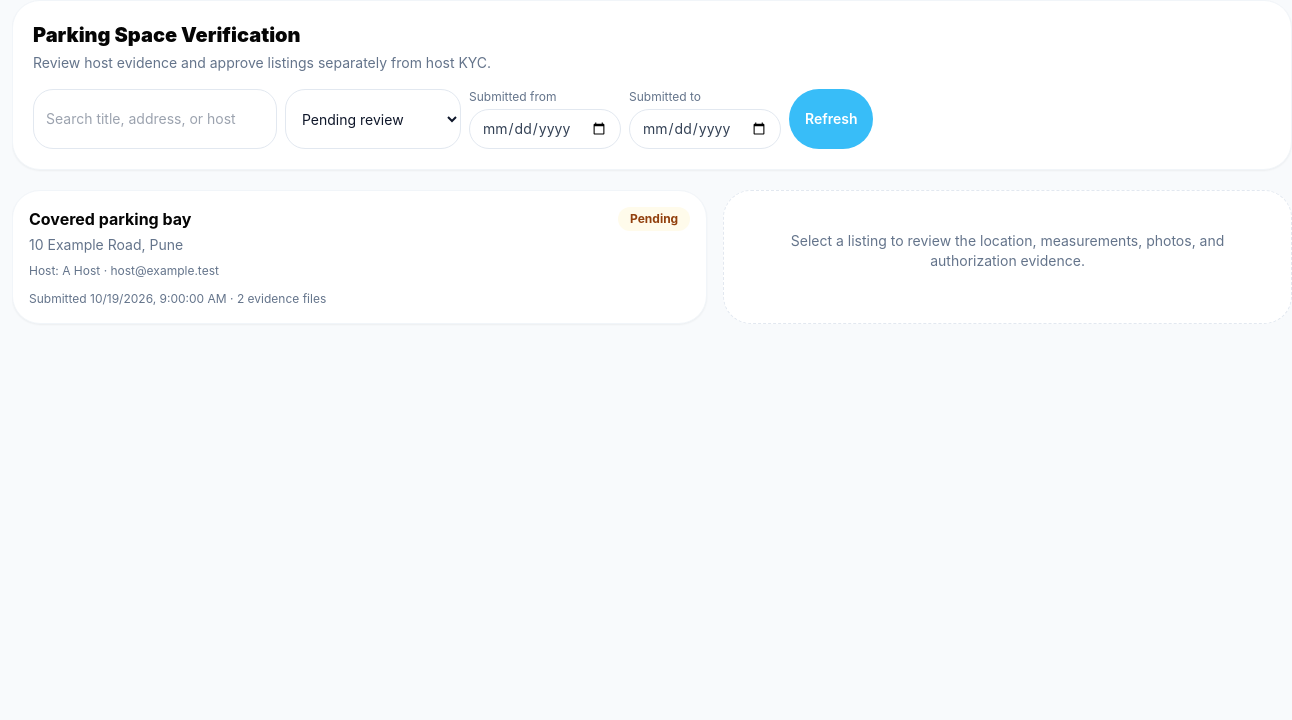
Test: admin can open a listing and inspect authorization evidence
Click the button "Covered parking bay" at point(110, 219), box [12, 190, 707, 324]
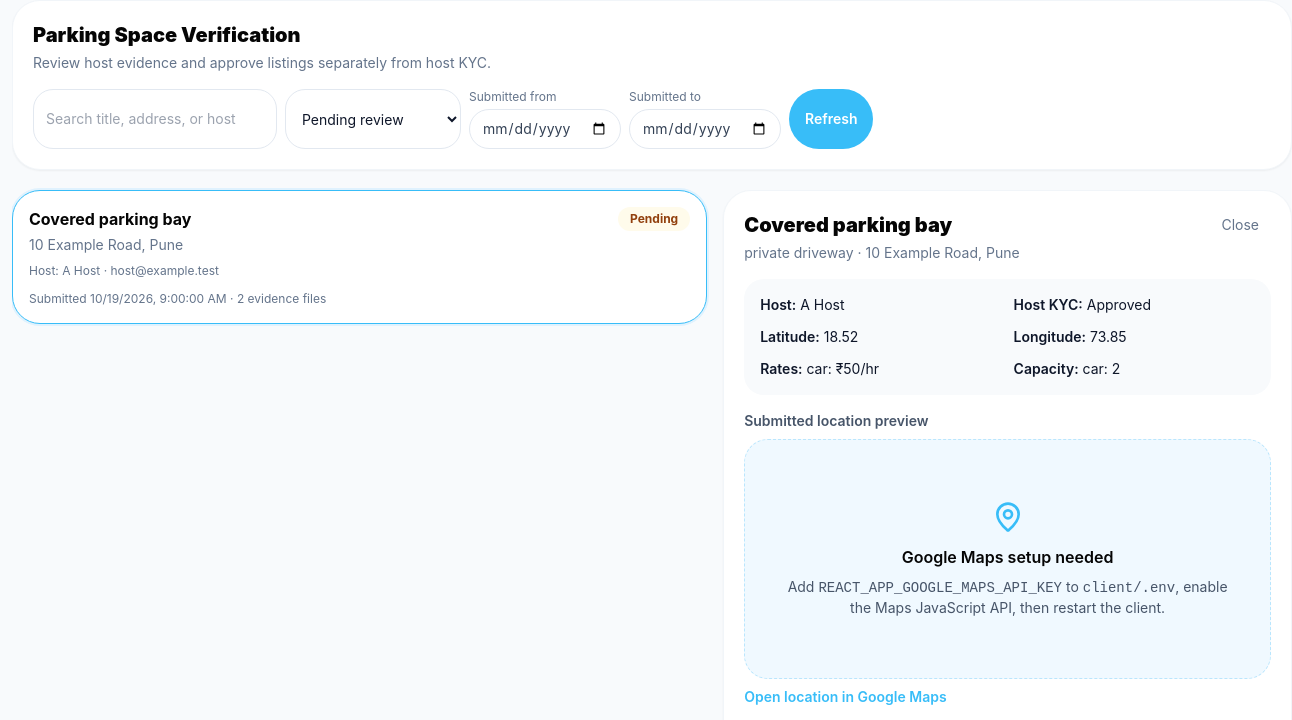
Expected: the text "Host KYC:" is shown, [1014, 296, 1083, 313]
